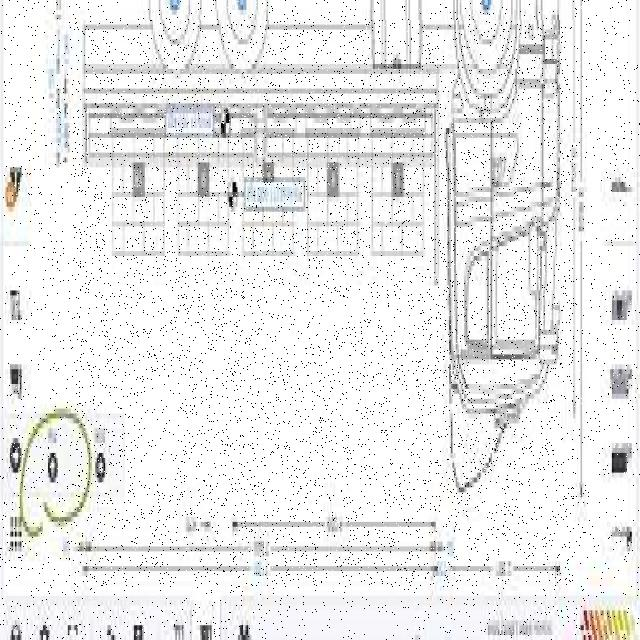MIL_MBT: (75, 20, 574, 585)
